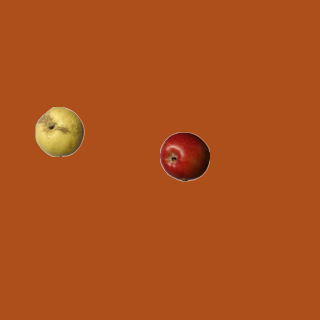Apple Braeburn: (159, 131, 209, 181)
Apple Golden 1: (34, 106, 84, 156)
